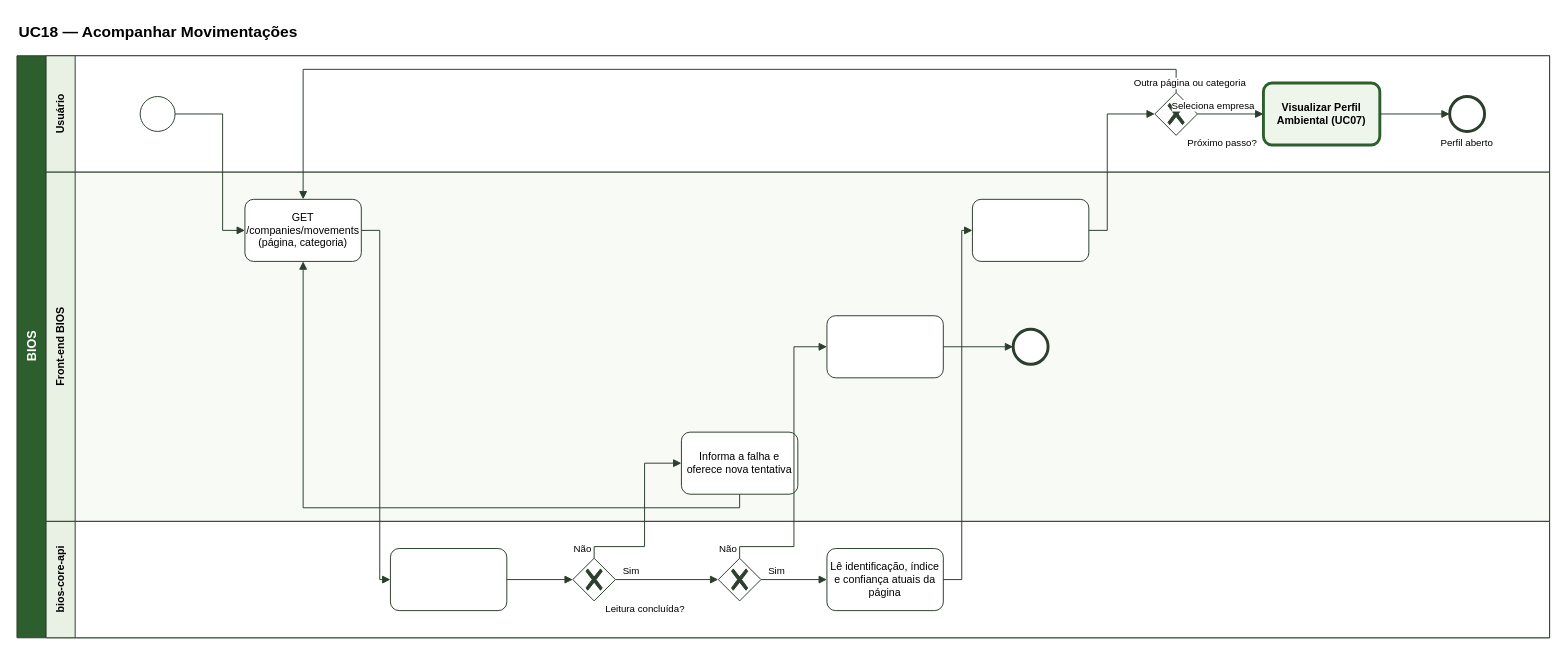
This 1567x655 diagram has some shape labels left out. Here are the shapes that lost their labels. From the top down, the centre of each, then its label:
At (x=157, y=113): "Conclui o login ou abre a tela principal".
At (x=1030, y=229): "Exibe sentido, causa, categoria e data por ODS".
At (x=884, y=346): "Informa que não há e oferece consulta e pesquisa".
At (x=1030, y=346): "Lista vazia".
At (x=448, y=579): "Lê a página por data, pelo índice de company_movements".
At (x=739, y=579): "Há movimentações?".
